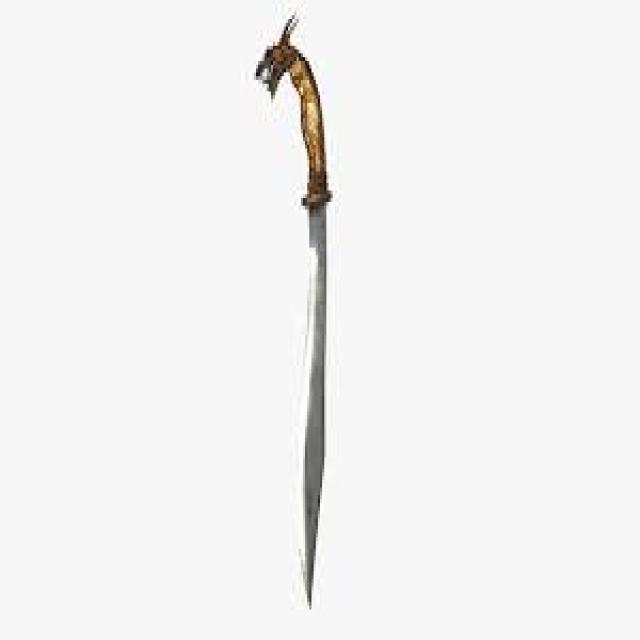Gun: (248, 36, 342, 599)
